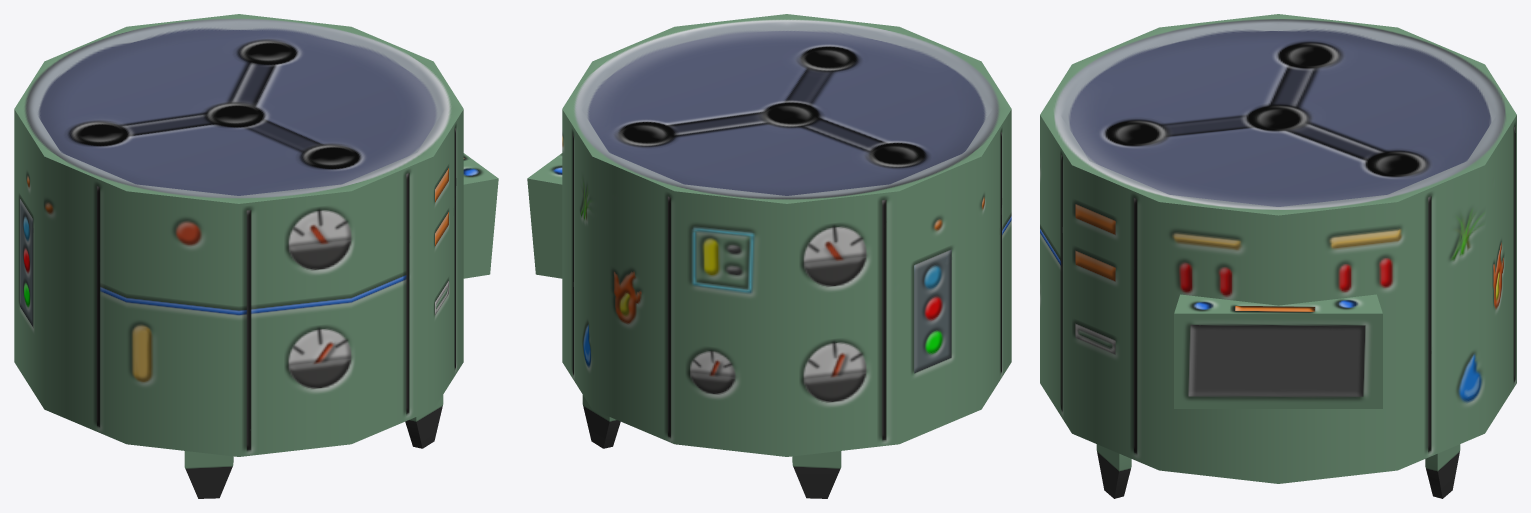
The model's file is PokeLabAsset_01.fbx.
3 renders of one model, left to right at view 1: azimuth 30°, elevation 25°; view 2: azimuth 150°, elevation 25°; view 3: azimuth 270°, elevation 25°, orthographic. The views are drawn at different scales.
Visible parts, largest first — view 1: PokeLabAsset_01; view 2: PokeLabAsset_01; view 3: PokeLabAsset_01.
Part boxes in pixels (x1,y1,x2,y2): PokeLabAsset_01: (14, 14, 498, 498); PokeLabAsset_01: (527, 14, 1011, 498); PokeLabAsset_01: (1040, 14, 1516, 498).
Size of the model in its own units: 5.05 by 3.63 by 4.86.
